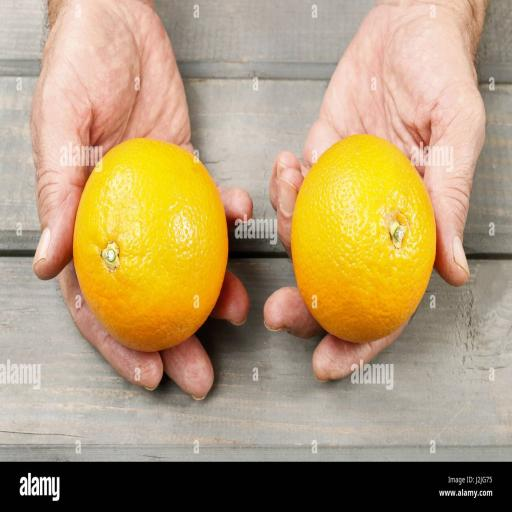orange: (74, 139, 228, 351), (292, 135, 435, 342)
